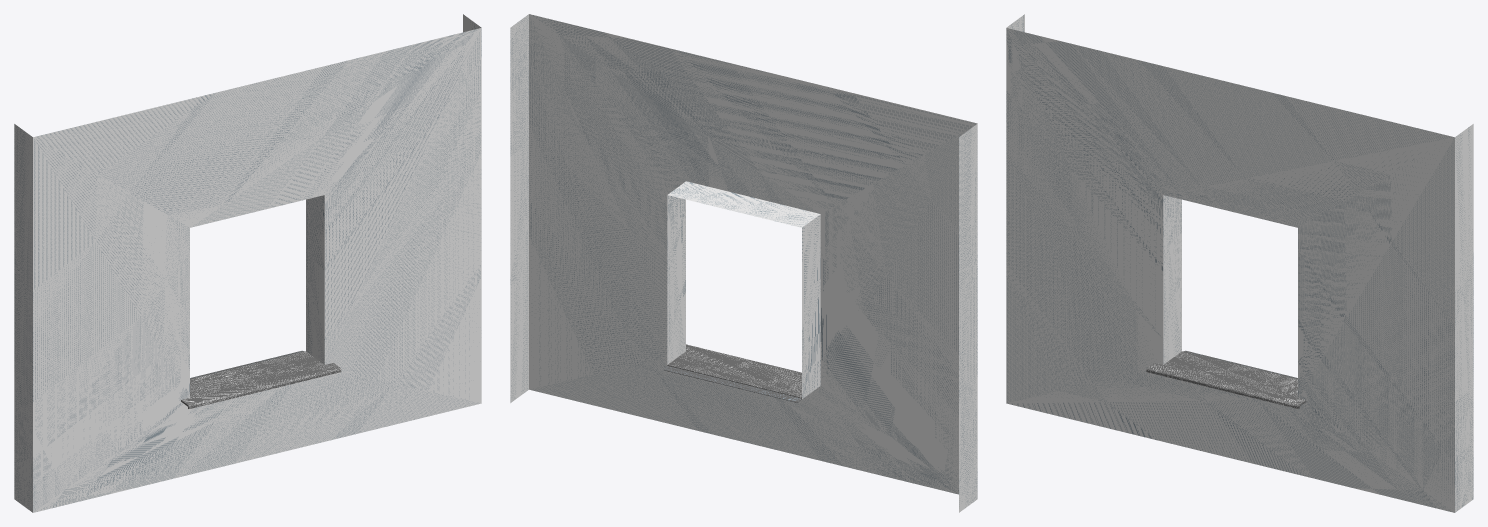
File: WindowBlock_os_[500x400]_150x181x[080].dae
3 renders of one model, left to right at view 1: azimuth 30°, elevation 25°; view 2: azimuth 150°, elevation 25°; view 3: azimuth 330°, elevation 25°, orthographic.
Visible parts, largest first — view 1: group_2 (×2), group_1; view 2: group_2 (×2), group_1 (×2); view 3: group_2 (×2), group_1.
Part boxes in pixels (bbox=[...]): group_2 (×2): bbox=[14, 14, 481, 512]; group_1: bbox=[181, 351, 341, 408]; group_2 (×2): bbox=[510, 14, 977, 512]; group_1 (×2): bbox=[664, 344, 801, 402]; group_2 (×2): bbox=[1006, 14, 1473, 512]; group_1: bbox=[1146, 351, 1306, 408].
Size of the model in its own units: 197 by 23.03 by 157.
